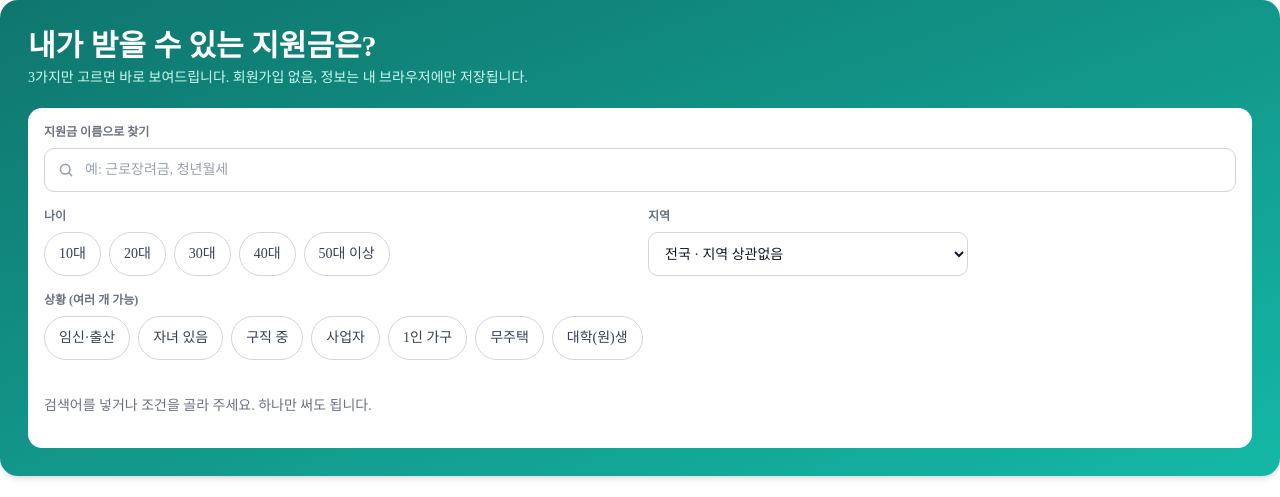
Test: DiagnosisPanel › 지우기 버튼을 누르면 검색어가 빠진다
The image size is (1280, 497).
Type "월세" into the search field labelled "지원금 이름으로 찾기". click: x=640, y=170
box: [44,148,1236,192]
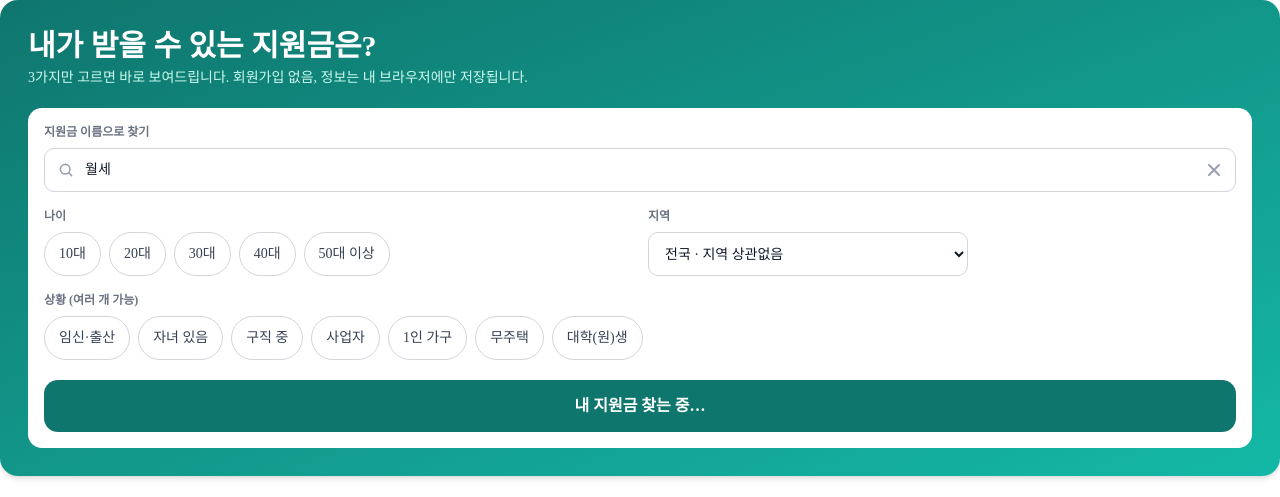
Click the button named "검색어 지우기". click: x=1214, y=170
box: [1196,152,1232,188]
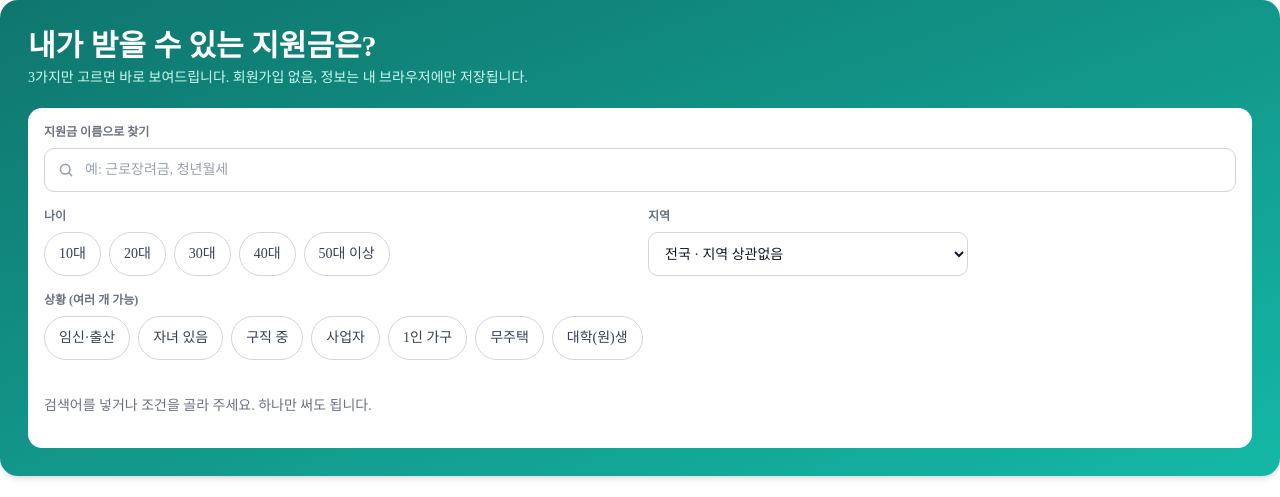
Expected: the text "검색어를 넣거나 조건을 골라 주세요. 하나만 써도 됩니다." is shown, [44,398,372,413]
